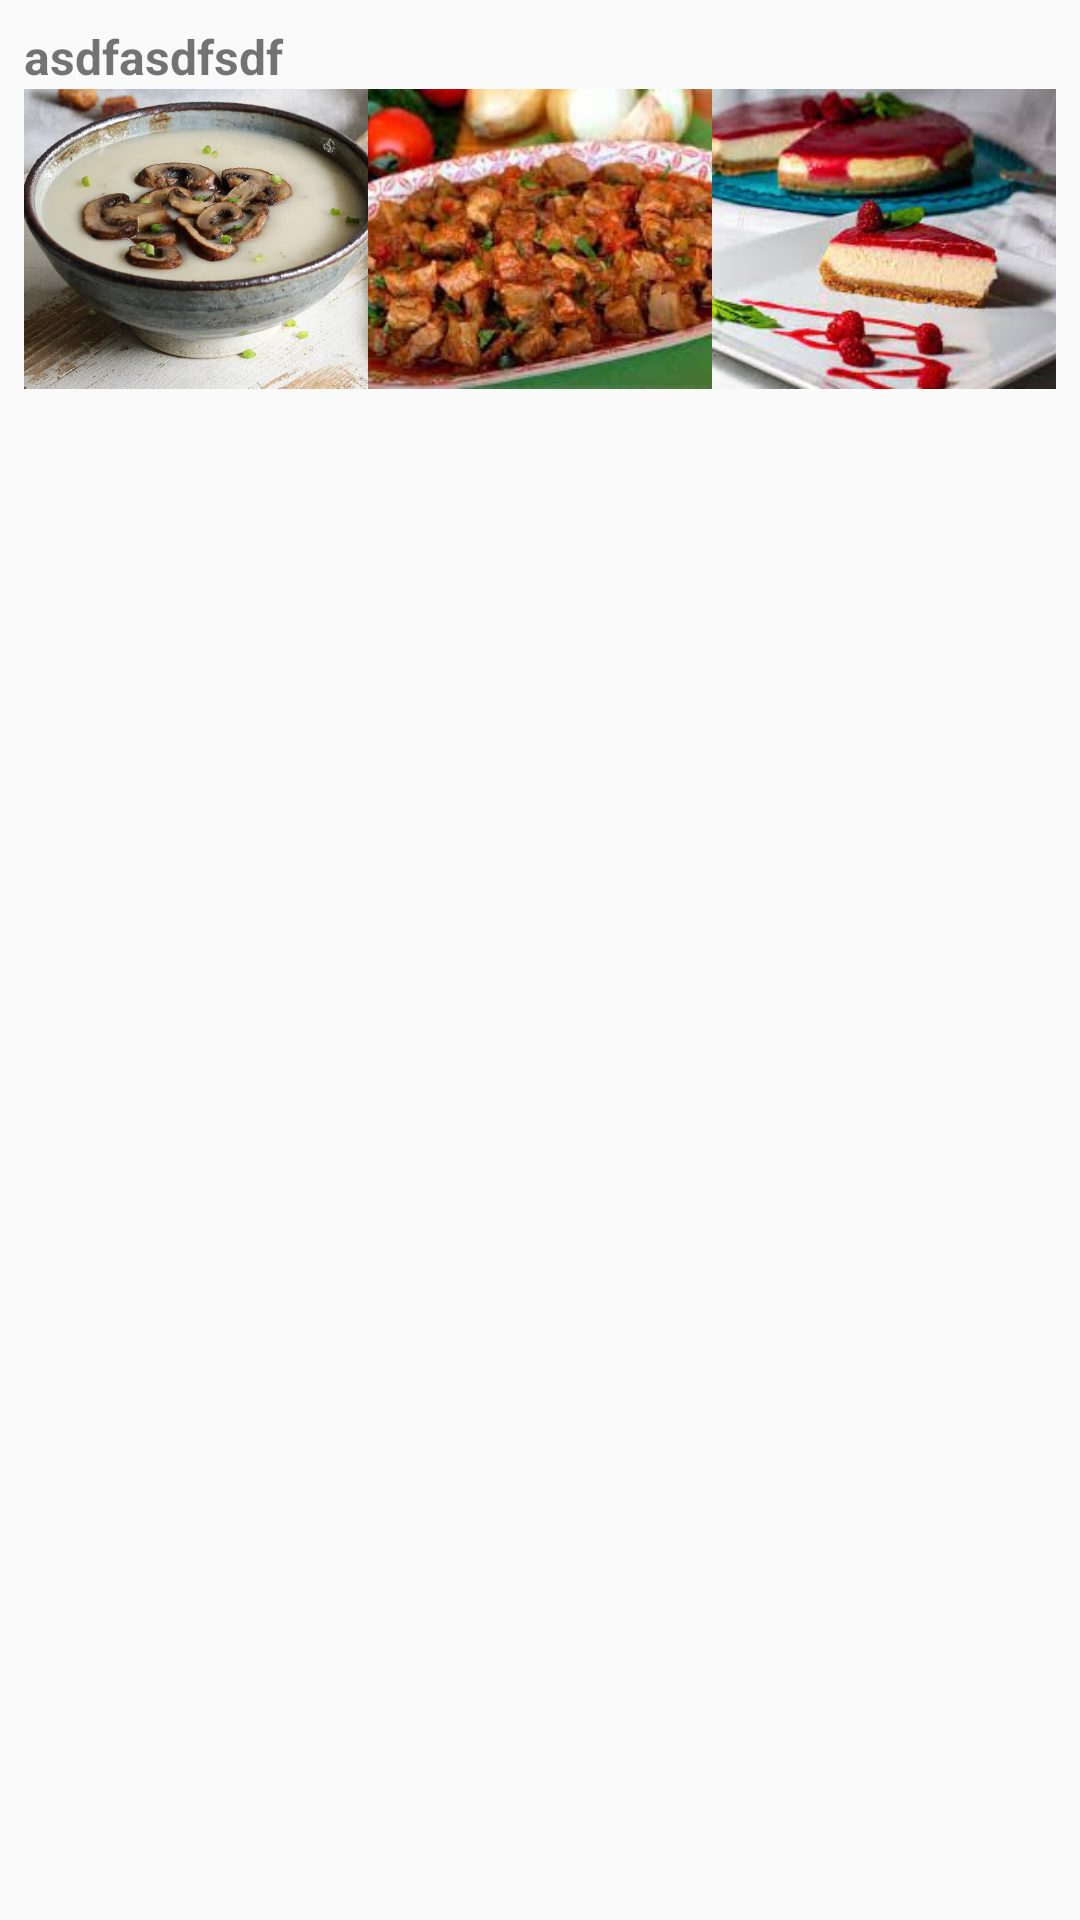

Point at icon controls on the screen. Image size 1080w x 1920h, points as (x=x, y=y).
cheescake: (x=884, y=239)
etsote: (x=540, y=239)
kremalimantar: (x=196, y=239)
